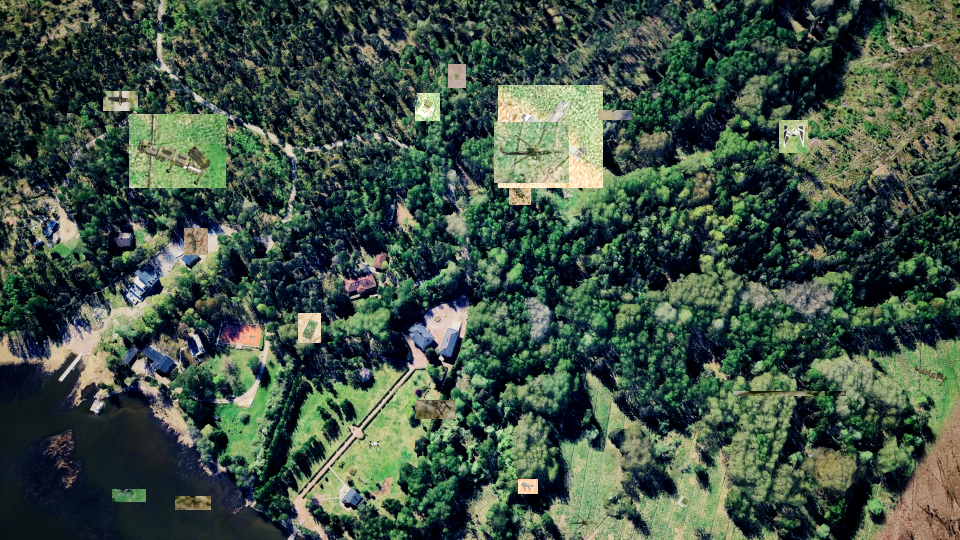condor: (498, 85, 603, 188)
hangar: (733, 391, 846, 396)
helicopter: (494, 122, 569, 183)
jammer: (298, 313, 321, 343)
jet_plane: (112, 489, 146, 502)
large_launcher: (129, 114, 226, 188)
large_tower: (415, 400, 455, 419)
medium_launcher: (175, 496, 211, 510)
medium_plane: (103, 91, 138, 111)
mine_roller: (509, 181, 531, 205)
small_launcher: (448, 64, 466, 88)
small_plane: (184, 228, 208, 255)
small_tower: (415, 93, 440, 121)
spacecraft: (779, 120, 808, 153)
ta-ta: (518, 479, 538, 494)
tank: (598, 110, 632, 120)
